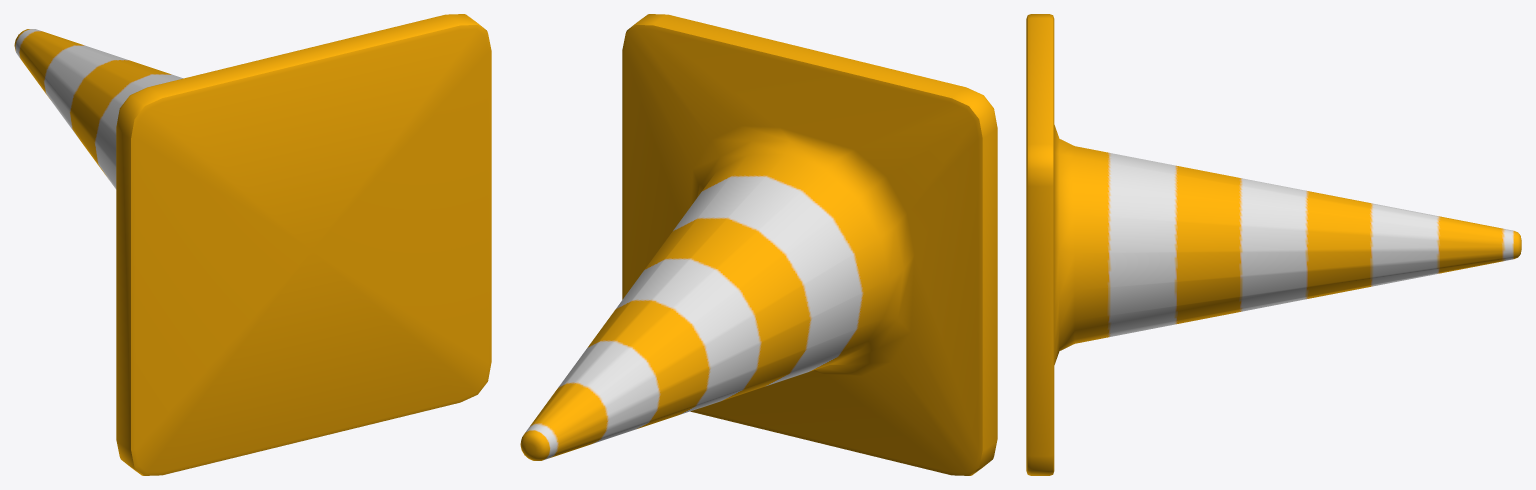
File: Traffic Cone004.fbx
3 renders of one model, left to right at view 1: azimuth 30°, elevation 25°; view 2: azimuth 150°, elevation 25°; view 3: azimuth 270°, elevation 25°, orthographic. The views are drawn at different scales.
Visible parts, largest first — view 1: Traffic Cone004; view 2: Traffic Cone004; view 3: Traffic Cone004.
Part boxes in pixels (x1,y1,x2,y2): Traffic Cone004: [14, 14, 491, 475]; Traffic Cone004: [520, 14, 997, 475]; Traffic Cone004: [1026, 14, 1521, 475].
Bounding box in the file's own units: 34.83 × 34.83 × 47.7.
1 material, 1 textured.
